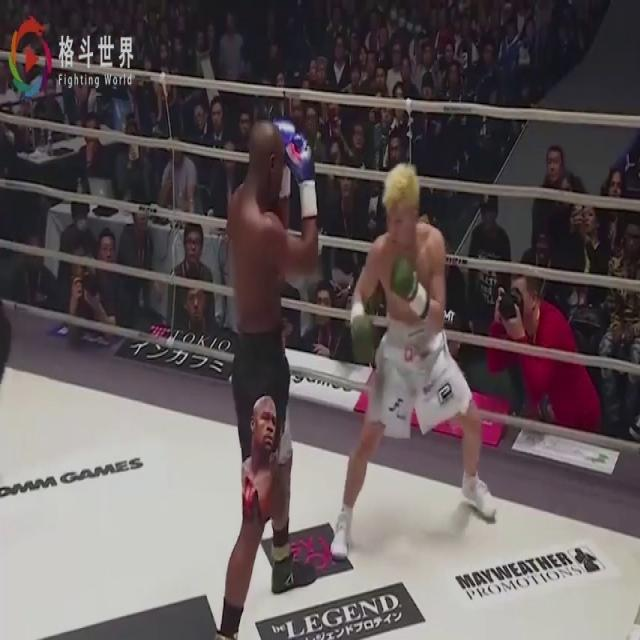fight: (169, 100, 538, 635)
